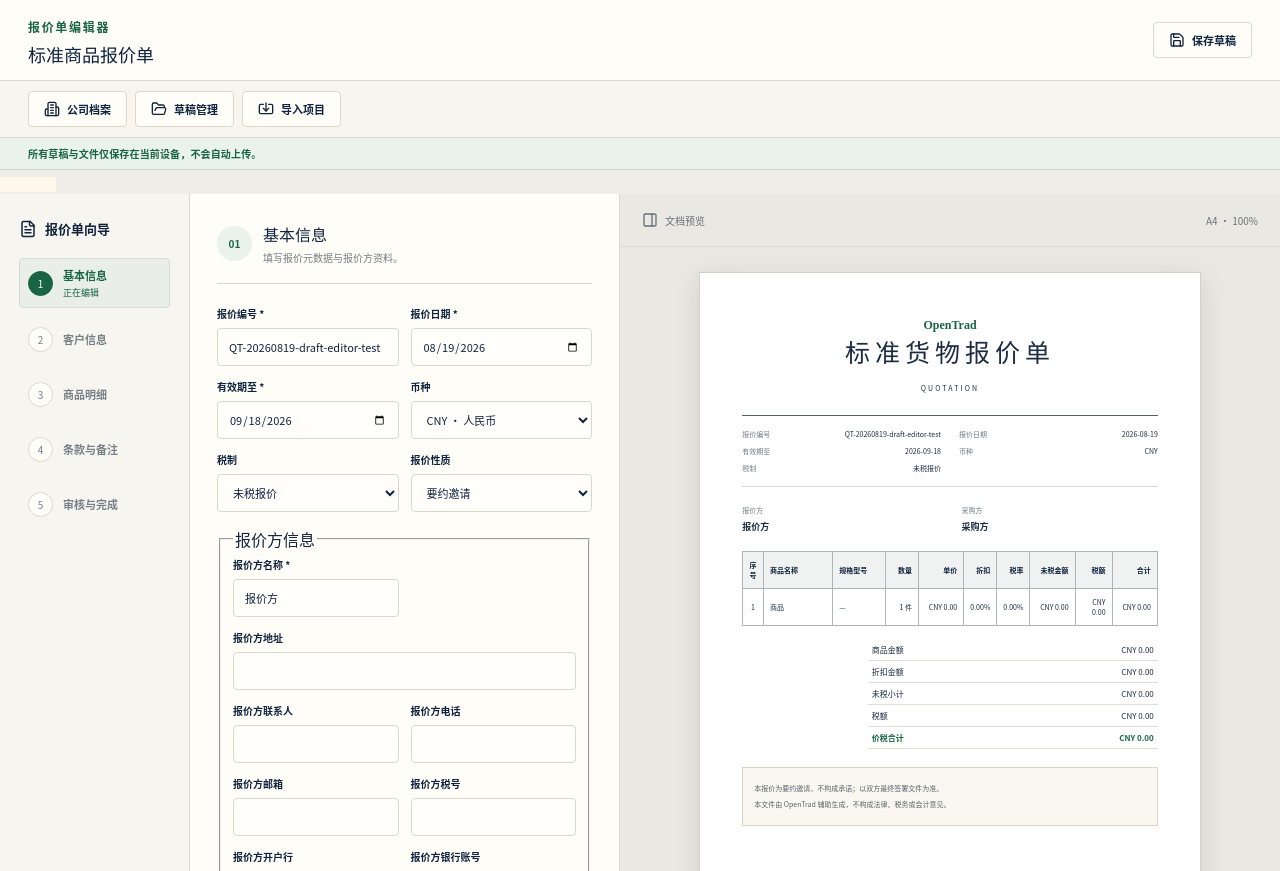
Test: standard goods quotation editor › can return to the earliest invalid step but cannot navigate past it
This screenshot has width=1280, height=871.
expect the heading "基本信息" is shown: met, box [263, 227, 327, 244]
Click the button "3 商品明细": (94, 394) [19, 370, 170, 418]
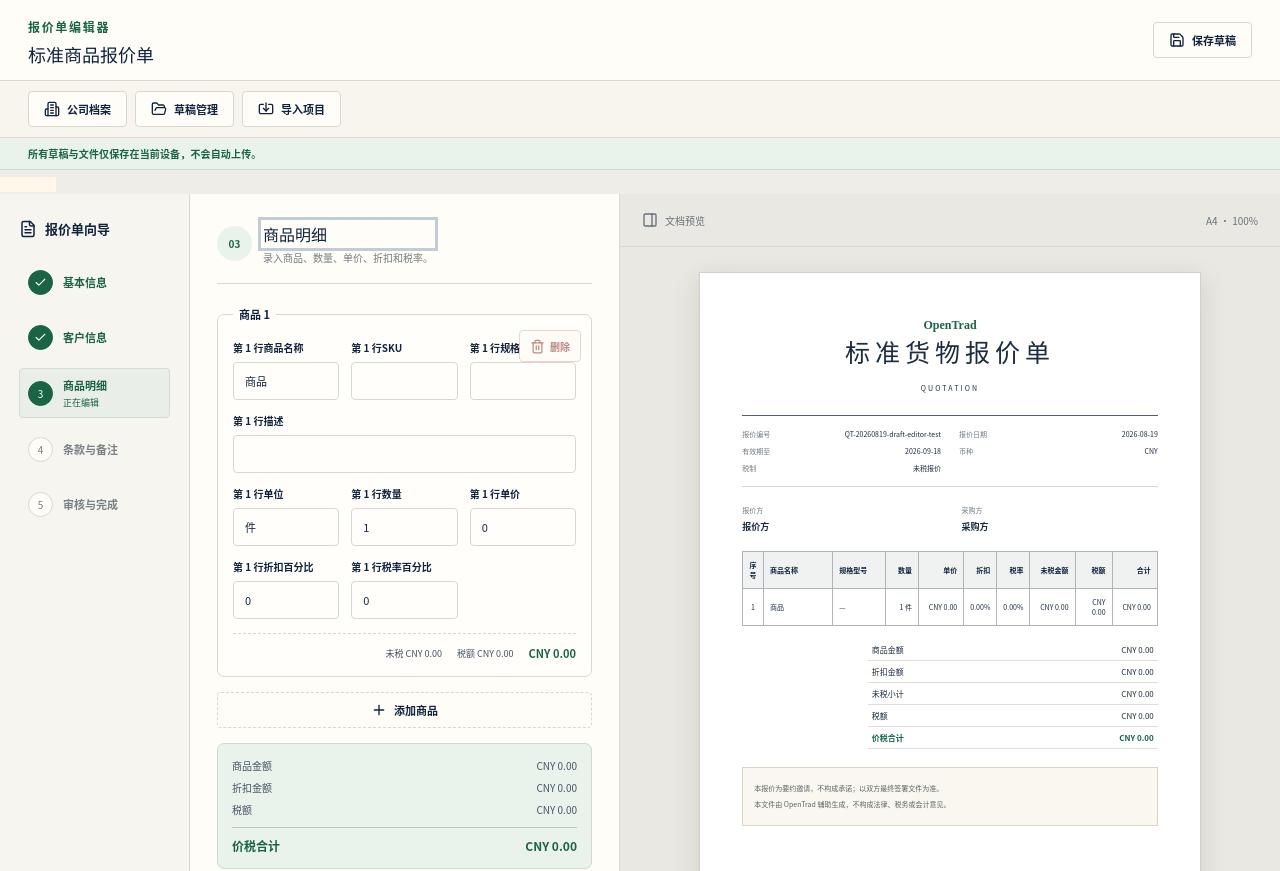
Replace the text in the field labelled "第 1 行数量" with "0": (404, 527) [351, 508, 458, 546]
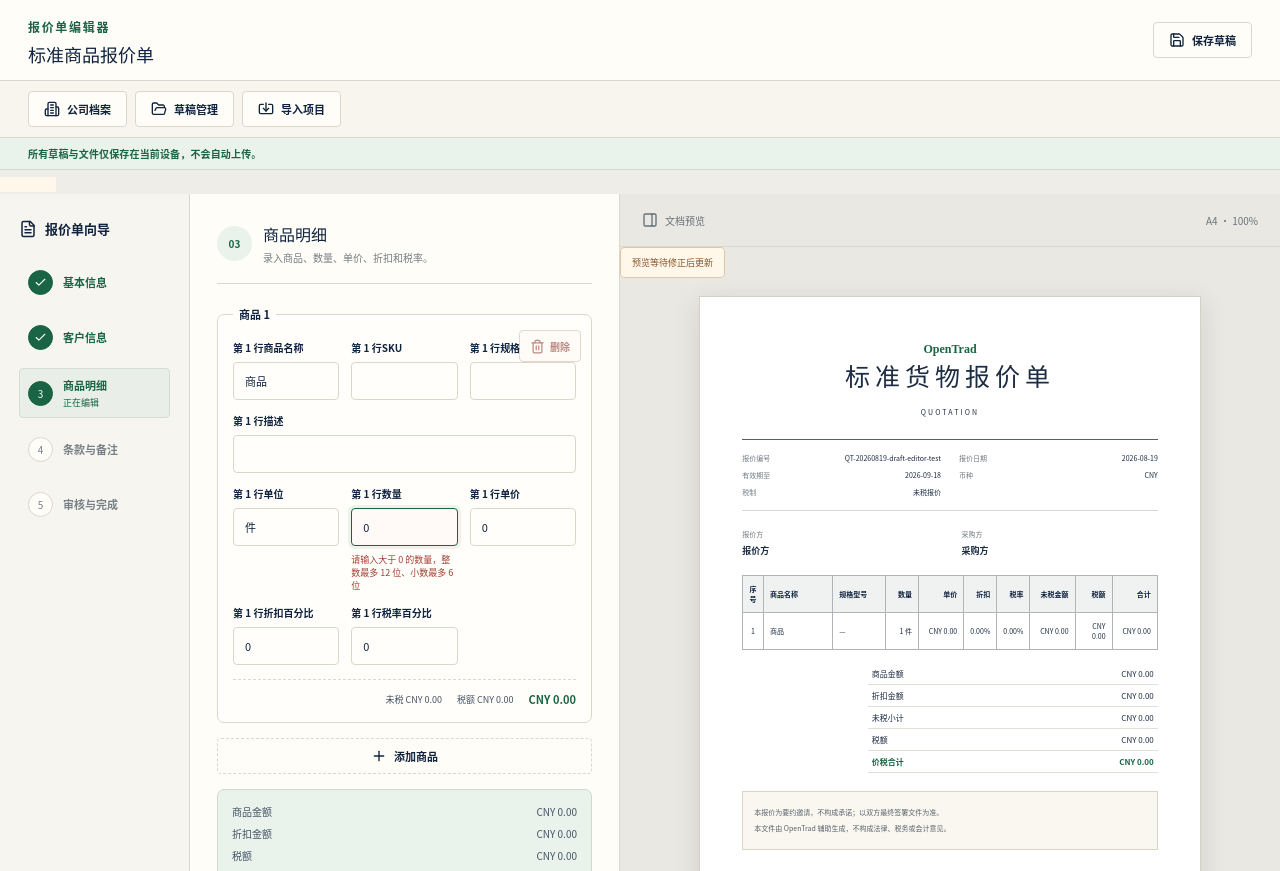
Click the button "基本信息": (94, 282) [19, 258, 170, 306]
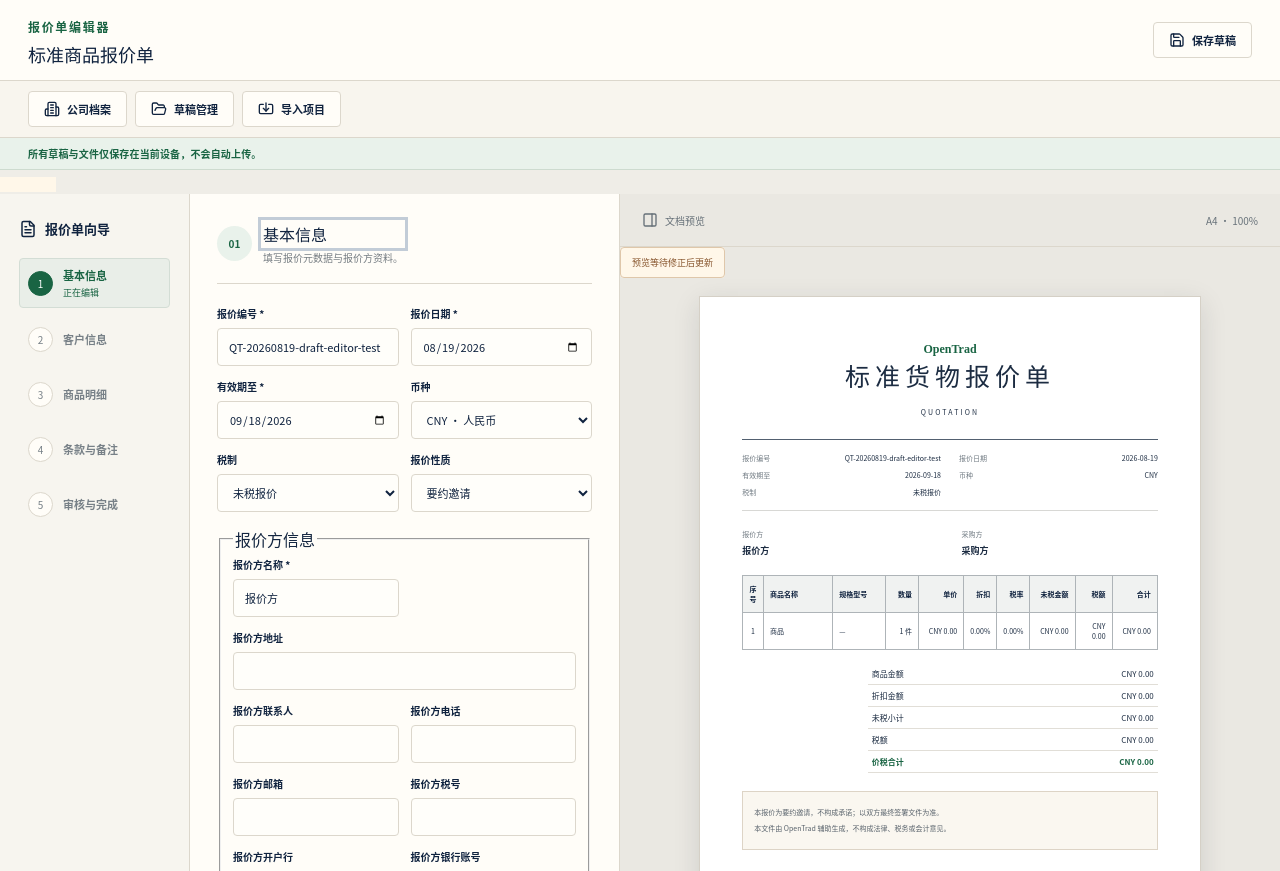
Click the button "3 商品明细": (94, 394) [19, 370, 170, 418]
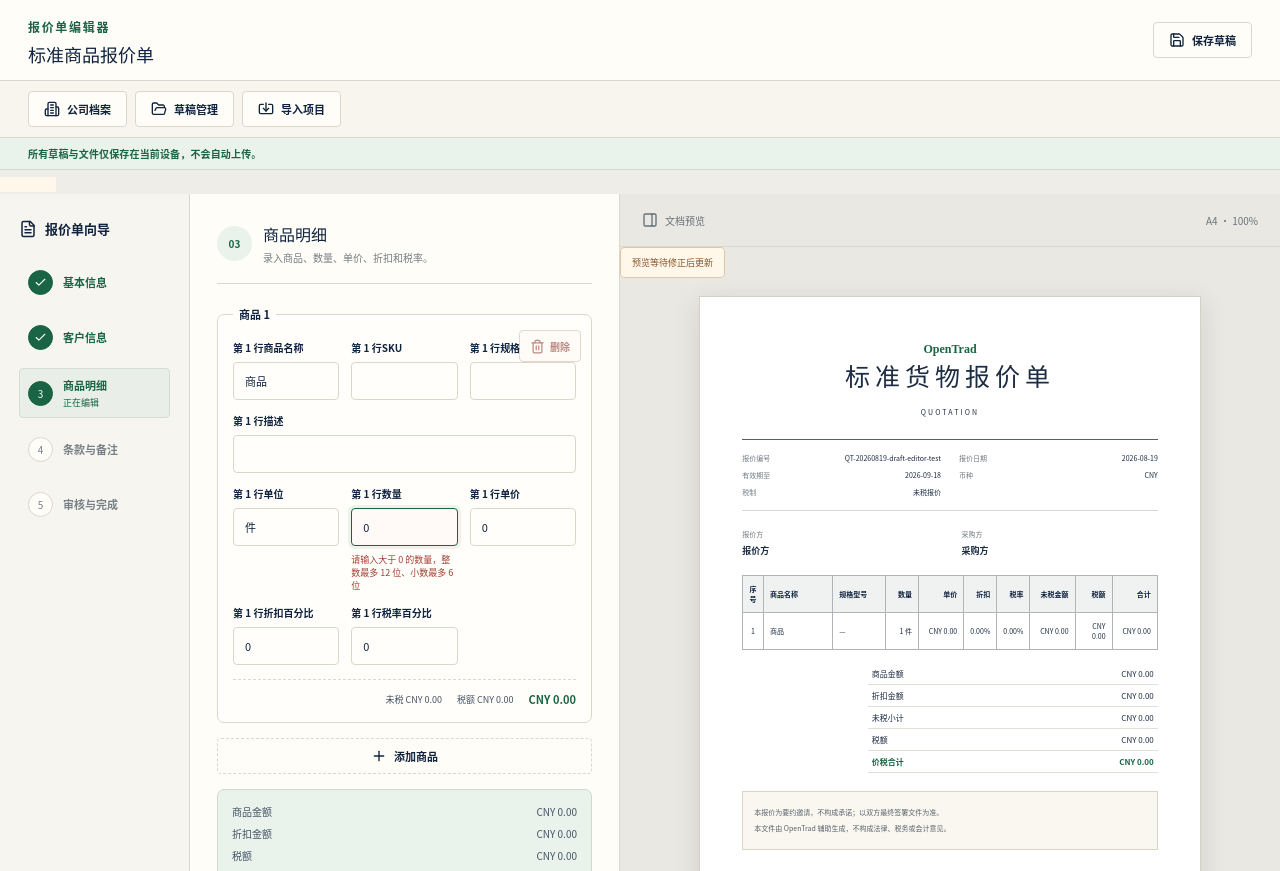
expect the heading "商品明细" is shown: met, box [263, 227, 327, 244]
Click the button "基本信息": (94, 282) [19, 258, 170, 306]
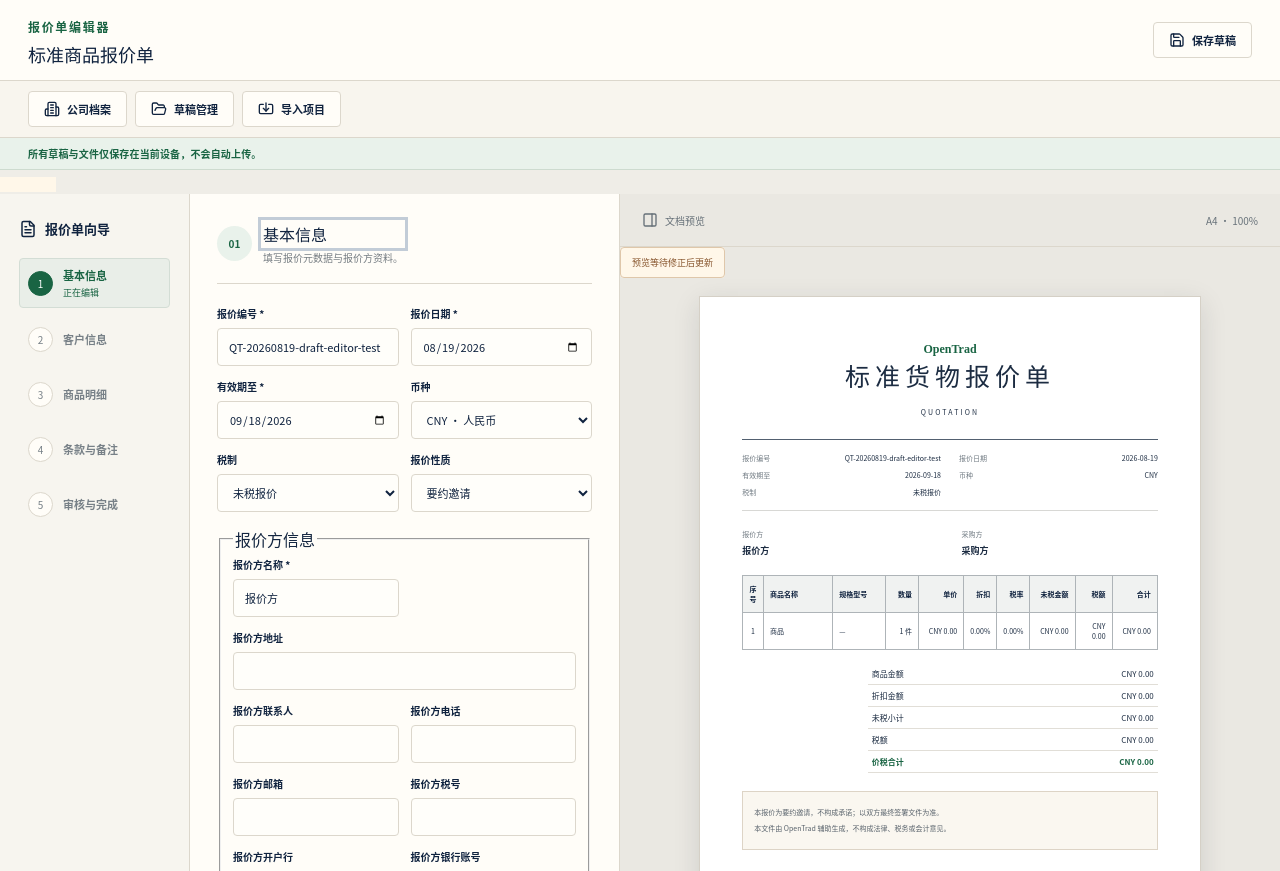
Click the button "4 条款与备注": (94, 449) [19, 425, 170, 473]
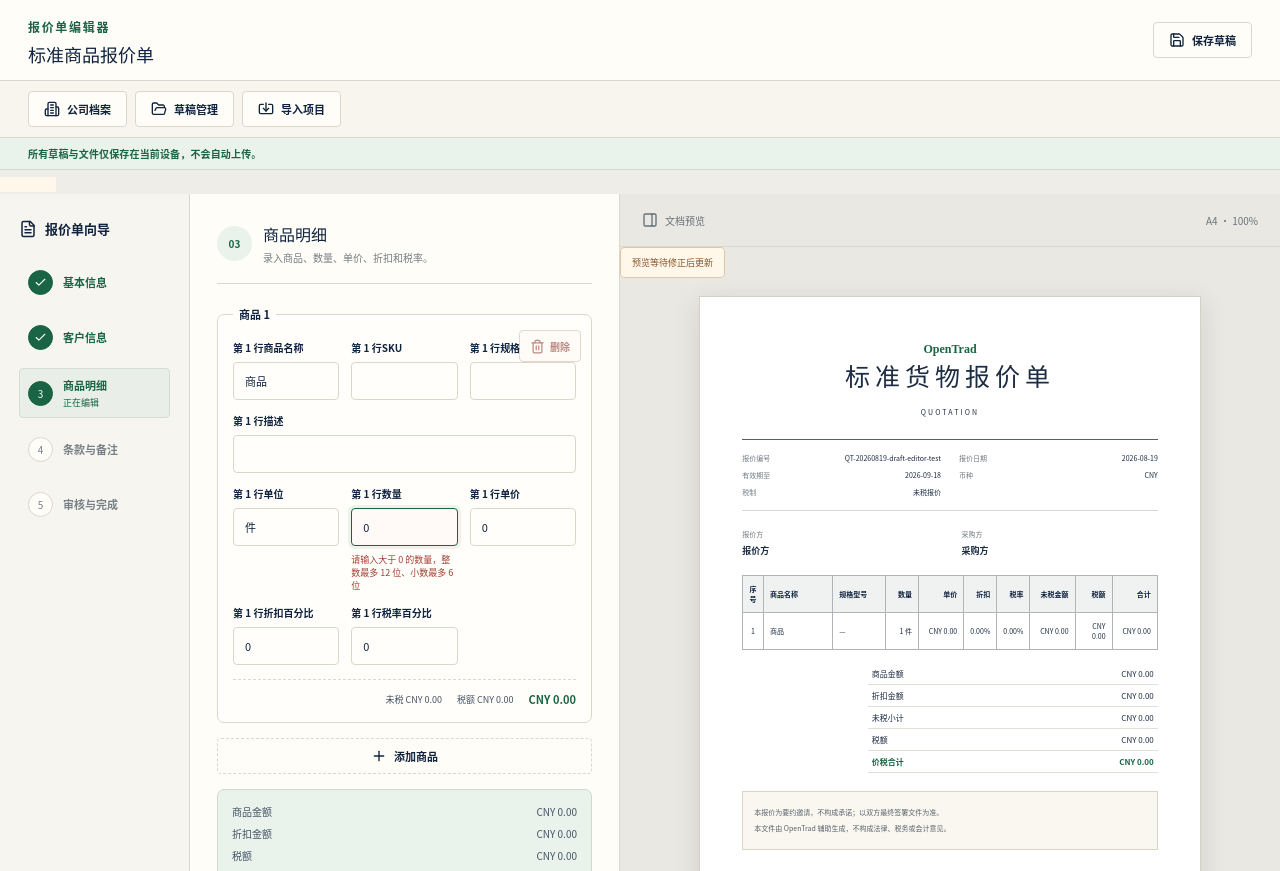
expect the heading "商品明细" is shown: met, box [263, 227, 327, 244]
